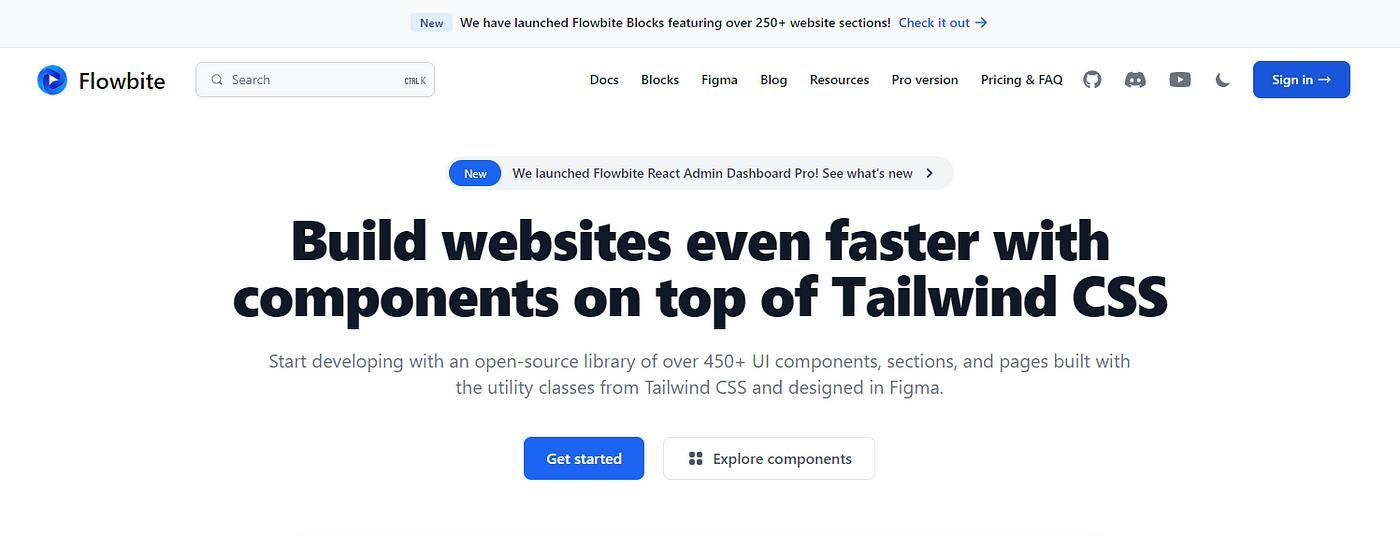button: (665, 437, 876, 480), (524, 439, 646, 480), (1254, 61, 1353, 98)
icon: (1078, 70, 1109, 95), (1120, 71, 1153, 92), (1167, 69, 1196, 92), (1213, 71, 1234, 93)
input: (196, 62, 436, 98)
label: (77, 66, 171, 98), (977, 70, 1067, 90), (812, 70, 871, 93), (889, 73, 960, 89), (639, 70, 685, 93), (699, 72, 744, 93), (584, 71, 628, 92), (759, 70, 797, 90)
